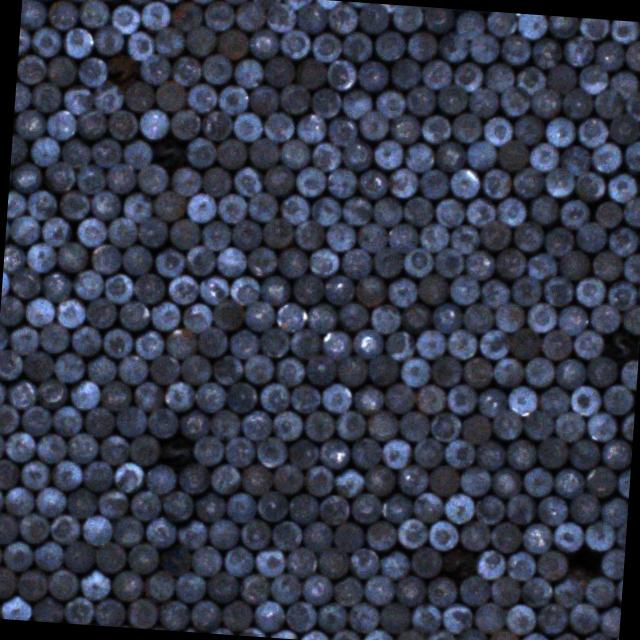tool: (370, 537, 420, 586), (324, 454, 374, 501), (373, 479, 419, 526), (151, 536, 202, 578), (588, 481, 630, 527), (591, 591, 621, 640), (285, 488, 320, 524), (488, 464, 524, 499), (0, 537, 34, 573), (64, 484, 98, 520), (506, 272, 542, 306), (59, 82, 95, 116), (184, 134, 218, 170), (198, 108, 234, 142), (558, 86, 594, 120), (1, 429, 36, 463), (330, 572, 364, 607), (20, 348, 55, 382), (120, 187, 154, 222), (293, 56, 328, 90), (560, 32, 595, 66), (61, 537, 94, 573), (110, 459, 146, 492), (6, 320, 39, 356), (348, 381, 384, 414), (272, 245, 308, 278), (604, 170, 640, 203), (140, 568, 174, 602), (205, 569, 239, 603), (301, 516, 335, 550), (239, 461, 273, 495), (254, 434, 288, 468), (520, 520, 554, 554), (535, 434, 569, 468), (18, 403, 52, 437), (8, 264, 42, 298), (428, 408, 462, 442), (178, 352, 212, 386), (398, 354, 432, 388), (492, 298, 526, 332), (258, 272, 292, 306), (384, 274, 418, 308), (478, 217, 512, 251), (506, 382, 540, 416), (9, 158, 43, 192), (58, 134, 92, 168), (28, 80, 62, 114), (214, 136, 248, 170), (496, 138, 530, 172), (136, 107, 170, 141), (514, 62, 548, 96), (543, 114, 577, 148), (590, 85, 624, 119), (80, 457, 113, 492), (364, 408, 399, 441), (146, 351, 179, 386), (304, 301, 339, 334), (260, 163, 295, 196), (466, 31, 501, 64), (98, 326, 134, 358), (166, 216, 202, 248), (512, 217, 544, 253), (440, 600, 473, 634), (238, 571, 272, 604), (394, 573, 428, 606), (252, 544, 286, 577), (111, 513, 145, 546), (238, 516, 272, 549), (95, 485, 129, 518), (192, 489, 226, 522), (317, 436, 351, 469), (412, 436, 445, 470), (582, 574, 616, 607), (472, 438, 506, 471), (49, 403, 83, 436), (36, 321, 70, 354), (22, 294, 55, 328), (271, 408, 304, 442), (397, 408, 430, 442), (192, 379, 226, 412), (256, 381, 290, 414), (382, 380, 416, 413), (353, 274, 387, 307), (89, 241, 122, 275), (182, 242, 215, 276), (105, 214, 138, 248), (260, 215, 294, 248), (553, 356, 587, 389), (28, 132, 61, 166), (44, 107, 77, 141), (62, 25, 95, 59), (309, 192, 343, 225), (448, 166, 481, 200), (326, 113, 360, 146), (512, 112, 546, 145), (215, 82, 248, 116), (278, 80, 311, 114), (138, 51, 171, 85), (451, 58, 484, 92), (92, 23, 126, 56), (406, 26, 439, 60), (499, 33, 533, 66), (294, 1, 328, 34), (576, 115, 610, 148), (283, 600, 318, 632), (427, 462, 462, 494), (472, 492, 507, 524), (38, 214, 73, 246), (176, 406, 208, 441), (92, 80, 124, 115), (316, 599, 349, 632), (316, 545, 349, 578), (332, 518, 365, 551), (18, 457, 51, 490), (362, 462, 395, 495), (34, 431, 67, 464), (286, 436, 319, 469), (504, 602, 537, 635), (503, 436, 536, 469), (8, 212, 41, 245), (99, 378, 132, 411), (224, 380, 257, 413), (211, 353, 244, 386), (366, 353, 399, 386), (429, 353, 462, 386), (460, 355, 493, 388), (288, 326, 321, 359), (429, 300, 462, 333), (339, 245, 372, 278), (228, 217, 261, 250), (573, 274, 606, 307), (494, 246, 527, 279), (45, 54, 78, 87), (152, 188, 185, 221), (215, 190, 248, 223), (104, 160, 137, 193), (200, 165, 233, 198), (417, 167, 450, 200), (278, 136, 311, 169), (122, 79, 155, 112), (153, 78, 186, 111), (467, 85, 500, 118), (592, 38, 625, 71), (0, 485, 34, 517), (251, 598, 285, 630), (44, 568, 78, 600), (362, 574, 396, 606), (92, 540, 126, 572), (190, 542, 222, 576), (48, 458, 82, 490), (144, 460, 176, 494), (396, 462, 430, 494), (128, 432, 160, 466), (380, 436, 412, 470), (472, 600, 504, 634), (568, 600, 600, 634), (550, 576, 584, 608), (584, 464, 616, 498), (52, 349, 84, 383), (39, 268, 73, 300), (56, 240, 90, 272), (82, 406, 116, 438), (238, 408, 272, 440), (458, 412, 492, 444), (272, 354, 306, 386), (178, 300, 212, 332), (272, 300, 306, 332), (71, 267, 105, 299), (196, 272, 230, 304), (120, 243, 154, 275), (213, 244, 247, 276), (584, 410, 618, 442), (538, 328, 572, 360), (556, 246, 590, 278), (588, 248, 622, 280), (574, 220, 608, 252), (42, 160, 76, 192), (88, 187, 120, 221), (185, 190, 217, 224), (168, 164, 202, 196), (294, 164, 326, 198), (324, 165, 358, 197), (480, 166, 512, 200), (510, 166, 544, 198), (247, 134, 279, 168), (402, 140, 436, 172), (262, 110, 296, 142), (294, 112, 328, 144), (388, 112, 422, 144), (435, 81, 469, 113), (230, 56, 264, 88), (356, 58, 390, 90), (482, 60, 516, 92), (325, 2, 359, 34), (572, 170, 606, 202), (589, 140, 623, 172), (606, 112, 640, 144), (320, 379, 351, 414), (372, 87, 407, 118), (125, 596, 157, 629), (157, 598, 190, 630), (347, 600, 380, 632), (379, 600, 412, 632), (270, 571, 302, 604), (300, 573, 333, 605), (284, 544, 317, 576), (409, 544, 442, 576), (364, 518, 397, 550), (225, 489, 257, 522), (412, 490, 444, 523), (190, 433, 223, 465), (222, 434, 255, 466), (536, 602, 568, 635), (457, 573, 490, 605), (488, 573, 520, 606), (472, 548, 505, 580), (535, 548, 568, 580), (551, 466, 584, 498), (4, 376, 36, 409), (25, 240, 58, 272), (74, 214, 106, 247), (302, 408, 334, 441), (67, 378, 100, 410), (288, 382, 321, 414), (475, 384, 508, 416), (114, 352, 147, 384), (162, 326, 195, 358), (193, 326, 226, 358), (258, 326, 290, 359), (476, 327, 509, 359), (336, 299, 369, 331), (461, 300, 493, 333), (135, 215, 167, 248), (491, 407, 523, 440), (553, 409, 585, 442), (491, 356, 524, 388), (526, 249, 558, 282), (542, 224, 575, 256), (606, 222, 638, 255), (58, 188, 90, 221), (77, 54, 109, 87), (248, 190, 280, 223), (278, 192, 311, 224), (371, 194, 403, 227), (402, 194, 435, 226), (135, 162, 168, 194), (356, 167, 388, 200), (311, 139, 344, 171), (342, 138, 374, 171), (169, 54, 202, 86), (263, 54, 296, 86), (390, 56, 422, 89), (420, 56, 452, 89), (185, 24, 218, 56), (215, 26, 248, 58), (373, 27, 406, 59), (437, 29, 469, 62), (528, 192, 560, 225), (526, 139, 558, 172), (160, 489, 194, 520), (208, 461, 242, 492), (518, 575, 552, 606), (458, 464, 492, 495), (34, 376, 68, 407), (113, 405, 147, 436), (417, 270, 448, 304), (556, 302, 590, 333), (246, 84, 280, 115), (278, 27, 312, 58), (189, 598, 221, 630), (221, 598, 253, 630), (16, 568, 48, 600), (110, 568, 142, 600), (426, 574, 458, 606), (32, 538, 64, 570), (18, 512, 50, 544), (144, 516, 176, 548), (208, 516, 240, 548), (270, 518, 302, 550), (396, 517, 428, 549), (428, 518, 460, 550), (34, 485, 66, 517), (128, 488, 160, 520), (256, 489, 288, 521), (350, 491, 382, 523), (444, 491, 476, 523), (271, 462, 303, 494), (302, 464, 334, 496), (66, 430, 98, 462), (443, 437, 475, 469), (552, 520, 584, 552), (505, 492, 537, 524), (567, 491, 599, 523), (568, 437, 600, 469), (54, 296, 86, 328), (84, 352, 116, 384), (242, 352, 274, 384), (68, 324, 100, 356), (226, 326, 258, 358), (445, 328, 477, 360), (84, 296, 116, 328), (212, 297, 244, 329), (166, 272, 198, 304), (228, 272, 260, 304), (291, 272, 323, 304), (448, 272, 480, 304), (152, 247, 184, 279), (198, 218, 230, 250), (294, 218, 326, 250), (386, 220, 418, 252), (417, 220, 449, 252), (522, 408, 554, 440), (523, 356, 555, 388), (570, 327, 602, 359), (589, 302, 621, 334), (540, 274, 572, 306), (26, 188, 58, 220), (14, 108, 46, 140), (75, 108, 107, 140), (434, 196, 466, 228), (464, 195, 496, 227), (496, 195, 528, 227), (386, 166, 418, 198), (90, 136, 122, 168), (372, 138, 404, 170), (434, 140, 466, 172), (465, 138, 497, 170), (106, 108, 138, 140), (169, 108, 201, 140), (358, 109, 390, 141), (482, 114, 514, 146), (184, 81, 216, 113), (310, 86, 342, 118), (341, 86, 373, 118), (325, 58, 357, 90), (246, 27, 278, 59), (264, 0, 296, 32), (577, 62, 609, 94), (530, 36, 562, 68), (318, 493, 351, 524), (599, 437, 632, 468), (146, 406, 177, 439), (207, 408, 240, 439), (333, 409, 366, 440), (305, 352, 336, 385), (413, 327, 446, 358), (116, 299, 149, 330), (102, 270, 133, 303), (477, 276, 510, 307), (526, 300, 559, 331), (30, 25, 63, 56), (499, 85, 532, 116), (233, 0, 266, 31), (77, 568, 111, 598), (172, 570, 206, 600), (431, 246, 465, 276), (604, 278, 638, 308), (232, 164, 262, 198), (169, 0, 203, 30), (222, 544, 254, 575), (348, 546, 379, 578), (49, 513, 81, 544), (176, 516, 207, 548), (505, 548, 536, 580), (534, 494, 566, 525), (522, 465, 553, 497), (163, 379, 194, 411), (414, 382, 445, 414), (444, 382, 476, 413), (242, 298, 274, 329), (132, 272, 164, 303), (322, 273, 354, 304), (602, 382, 634, 413), (508, 327, 540, 358), (74, 162, 106, 193), (404, 84, 436, 115), (201, 52, 233, 83), (310, 30, 342, 61), (341, 30, 373, 61), (109, 2, 140, 34), (358, 2, 389, 34), (410, 601, 440, 634), (126, 542, 159, 572), (460, 518, 490, 551), (319, 328, 352, 358), (351, 328, 384, 358), (323, 220, 356, 250), (569, 384, 602, 414), (152, 26, 185, 56), (202, 0, 235, 30), (453, 8, 486, 38), (530, 85, 560, 118), (598, 544, 625, 580), (351, 436, 382, 467), (583, 519, 614, 550), (372, 245, 403, 276), (543, 166, 574, 197), (546, 62, 577, 93), (608, 68, 639, 99), (93, 597, 125, 627), (176, 462, 208, 492), (490, 520, 520, 552), (384, 329, 414, 361), (244, 244, 276, 274), (354, 222, 386, 252), (447, 222, 479, 252), (342, 194, 372, 226), (139, 0, 171, 30), (558, 144, 590, 174), (45, 0, 78, 29), (81, 514, 112, 544), (133, 380, 164, 410), (336, 355, 367, 385), (134, 328, 164, 359), (148, 299, 179, 329), (400, 301, 430, 332), (307, 246, 338, 276), (402, 246, 433, 276), (538, 384, 569, 414), (586, 355, 616, 386), (16, 53, 47, 83), (122, 137, 152, 168), (452, 111, 482, 142), (558, 198, 589, 228), (0, 592, 33, 620), (391, 4, 424, 32), (515, 13, 549, 40), (64, 595, 94, 625), (98, 434, 128, 464), (370, 302, 400, 332), (593, 200, 623, 230), (421, 113, 452, 142), (32, 594, 64, 622), (78, 0, 110, 28), (464, 249, 494, 278), (233, 111, 262, 141), (124, 30, 154, 59), (422, 6, 454, 32), (485, 11, 517, 37), (19, 0, 46, 29), (0, 346, 22, 381), (0, 294, 24, 326), (609, 19, 640, 43), (6, 186, 28, 219), (576, 18, 609, 40), (2, 241, 26, 271), (547, 15, 578, 38), (618, 303, 640, 333), (0, 510, 19, 544), (10, 132, 29, 166), (621, 139, 640, 172), (0, 402, 20, 433), (622, 194, 640, 228), (619, 356, 638, 388), (621, 90, 640, 122), (0, 456, 19, 487), (621, 250, 640, 281), (0, 564, 17, 597), (623, 38, 640, 71), (14, 80, 31, 112), (361, 627, 396, 640), (486, 628, 521, 640), (616, 466, 630, 496), (330, 627, 362, 640), (456, 627, 487, 640), (393, 628, 425, 640), (425, 629, 457, 640), (519, 629, 550, 640), (580, 630, 614, 640), (548, 630, 581, 640), (247, 0, 283, 6), (0, 375, 6, 407), (184, 0, 216, 4), (0, 429, 3, 460)
tool_b: (140, 121, 200, 179), (94, 40, 154, 97), (430, 532, 488, 587), (604, 327, 640, 362), (159, 436, 193, 467)
void: (556, 534, 612, 590)
